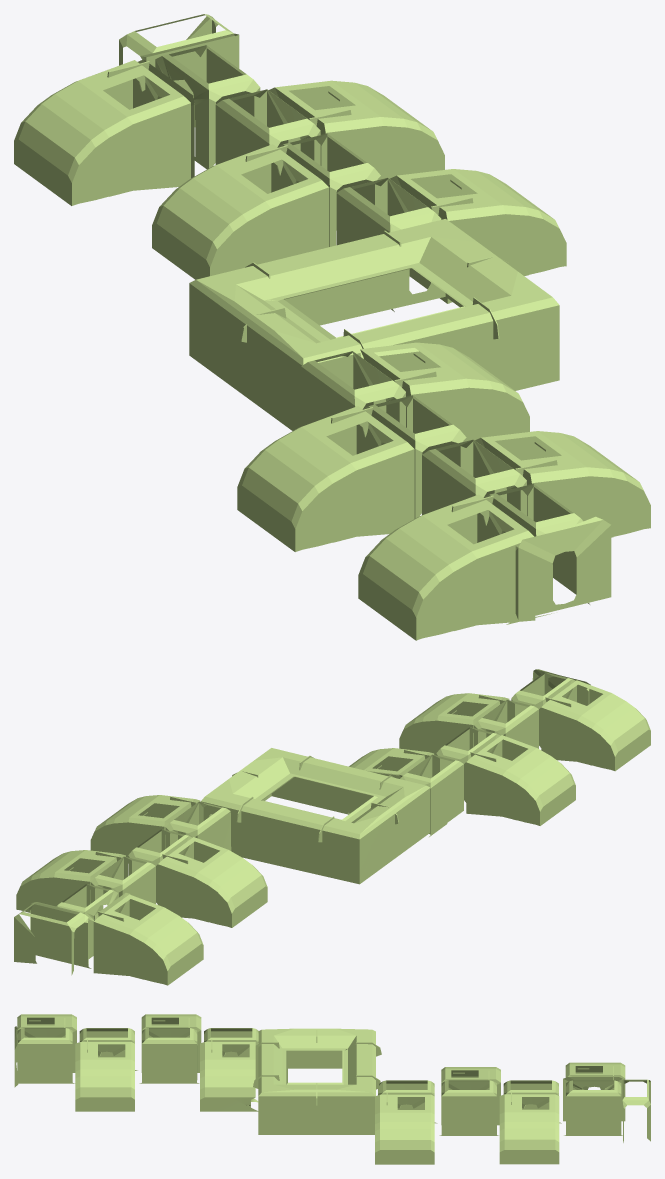
Rendered from paredes3.fbx.
3 renders of one model, top to bottom at view 1: azimuth 30°, elevation 25°; view 2: azimuth 150°, elevation 25°; view 3: azimuth 270°, elevation 25°, orthographic. The views are drawn at different scales.
Parts seen in each view (by area): view 1: pared.001; view 2: pared.001; view 3: pared.001.
Part boxes in pixels (x1,y1,x2,y2): pared.001: [14, 14, 650, 640]; pared.001: [14, 669, 650, 985]; pared.001: [14, 1014, 650, 1164].
Bounding box in the file's own units: 1906 × 339 × 4096.
